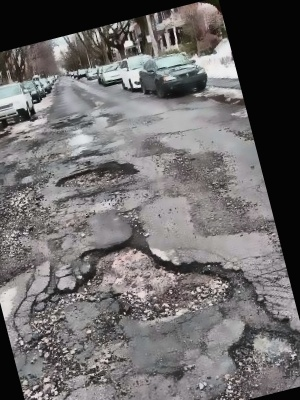pothole: (62, 210, 241, 339), (221, 316, 300, 383), (52, 156, 138, 200)
